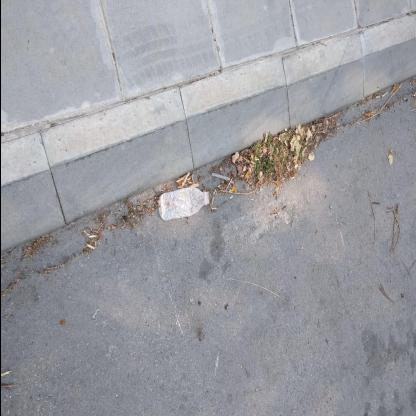plastik: (157, 187, 209, 221)
